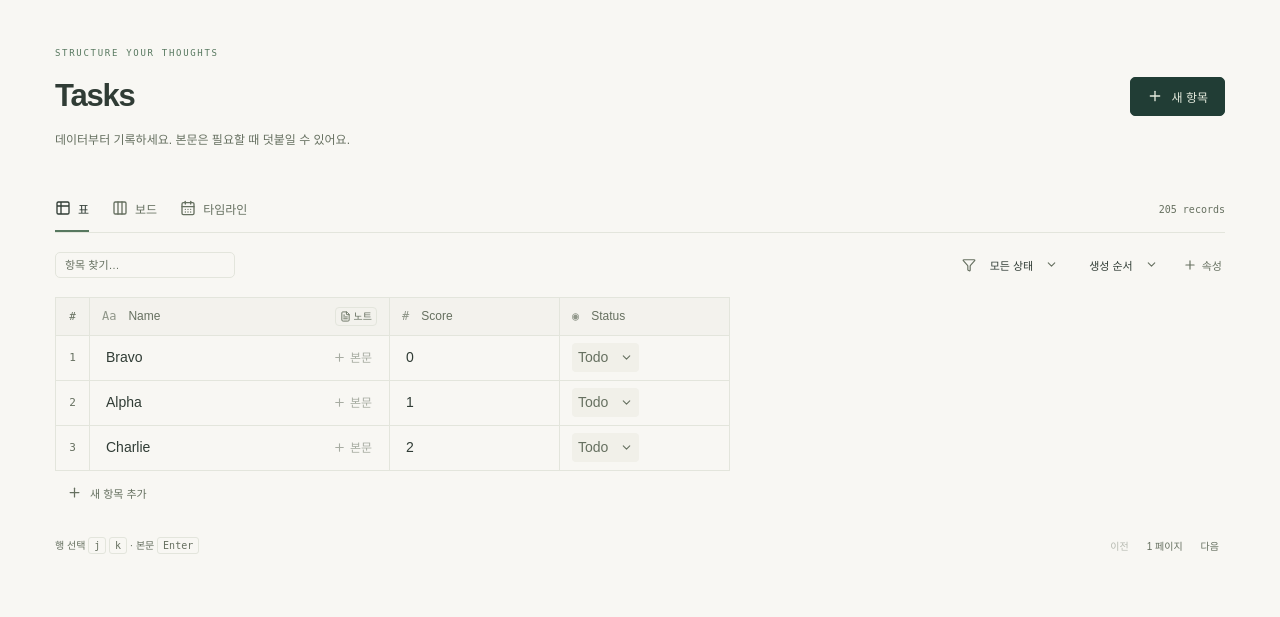
Test: database typography follows settings across views without changing the query or records
Click the button "# Score" at x=474, y=316, box [390, 298, 559, 335]
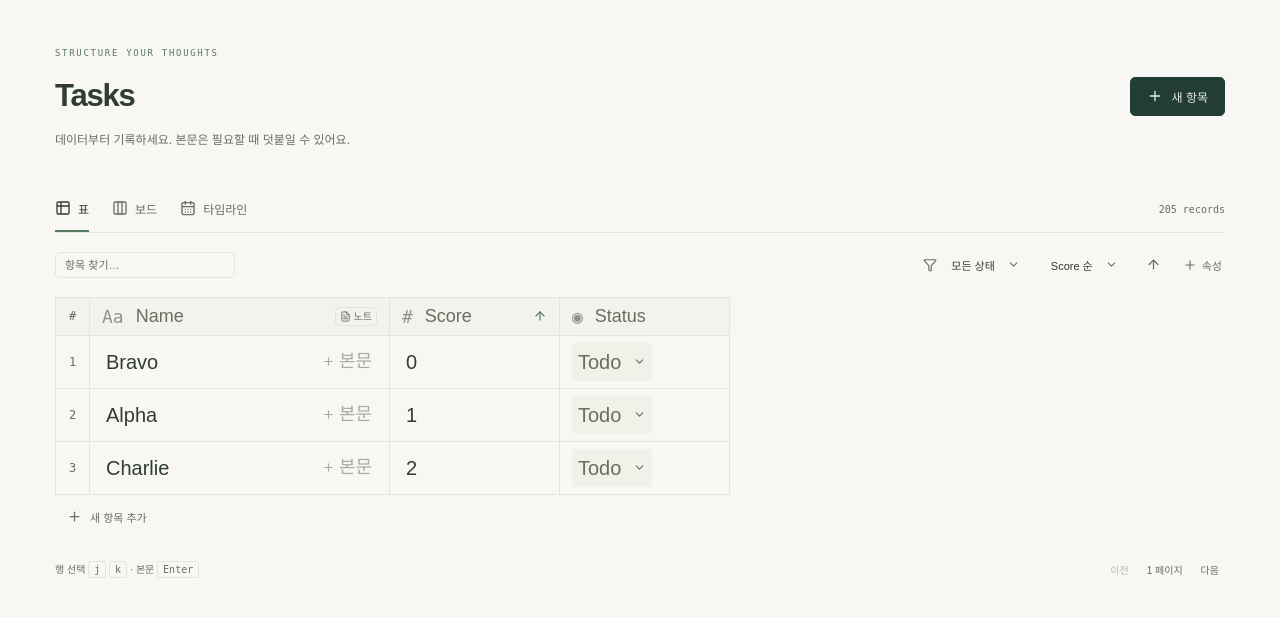
Check: the column heading "# Score" has attribute aria-sort="ascending", box [390, 297, 560, 335]
Click the button "보드" at x=135, y=210, box [112, 188, 157, 232]
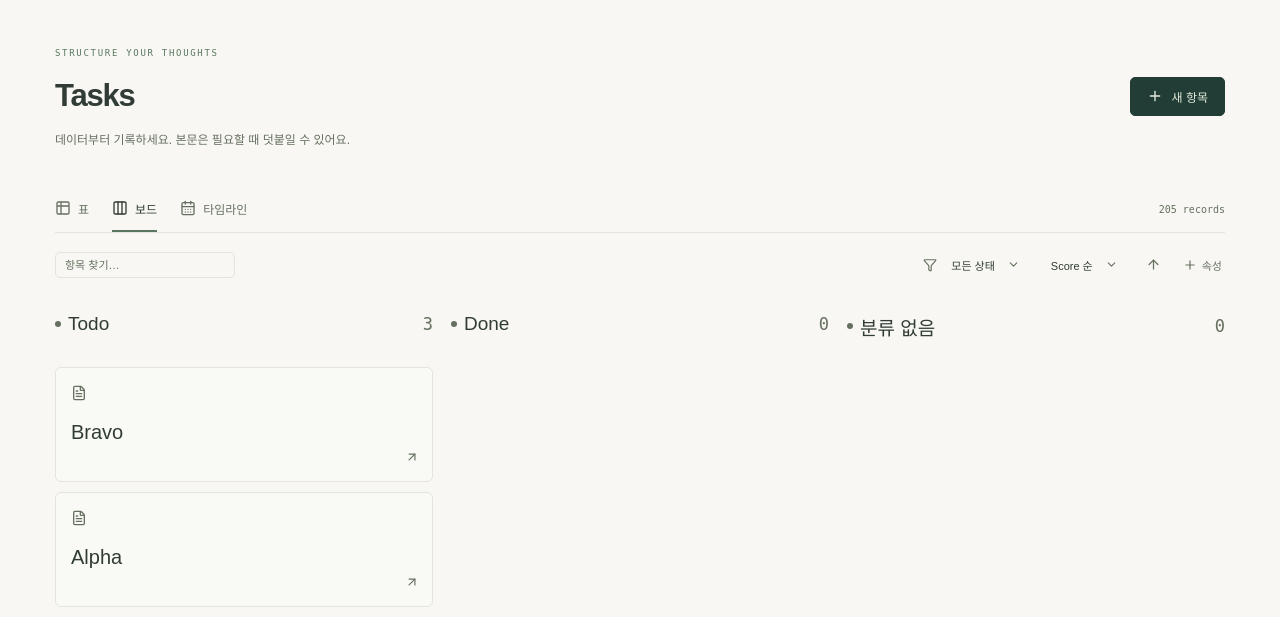
Click the button "타임라인" at x=214, y=210, box [180, 188, 247, 232]
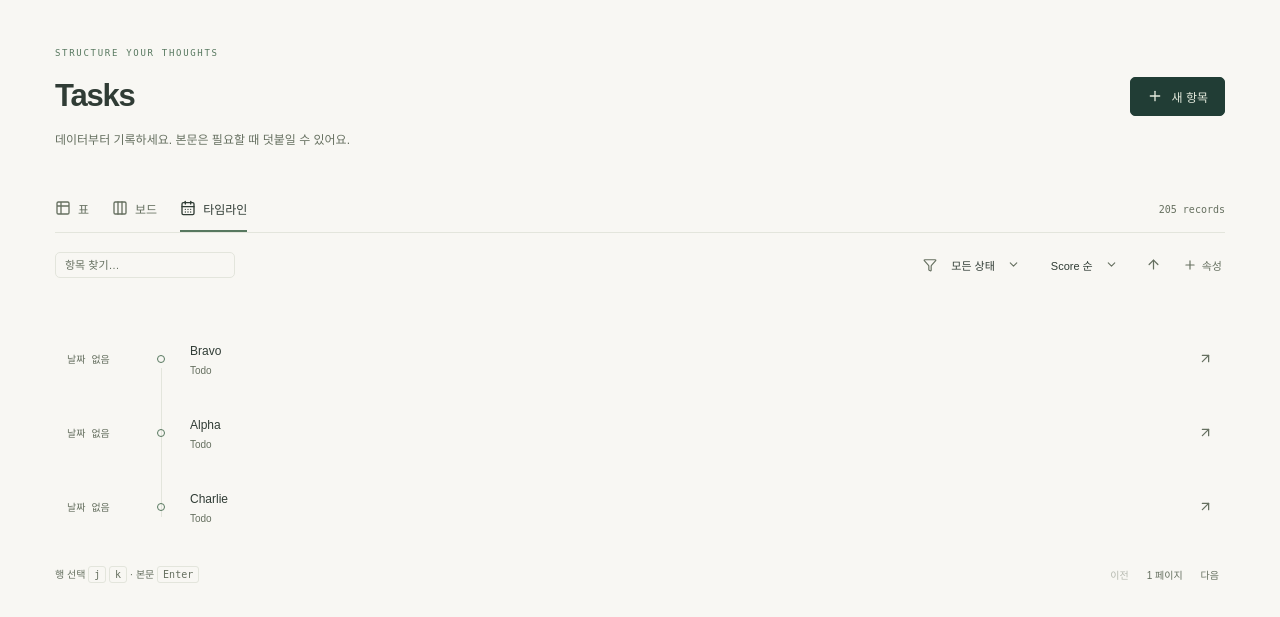
Check: the number of buttons with class "timeline-entry" is 3, box [55, 322, 1225, 396]; [55, 396, 1225, 470]; [55, 470, 1225, 544]
